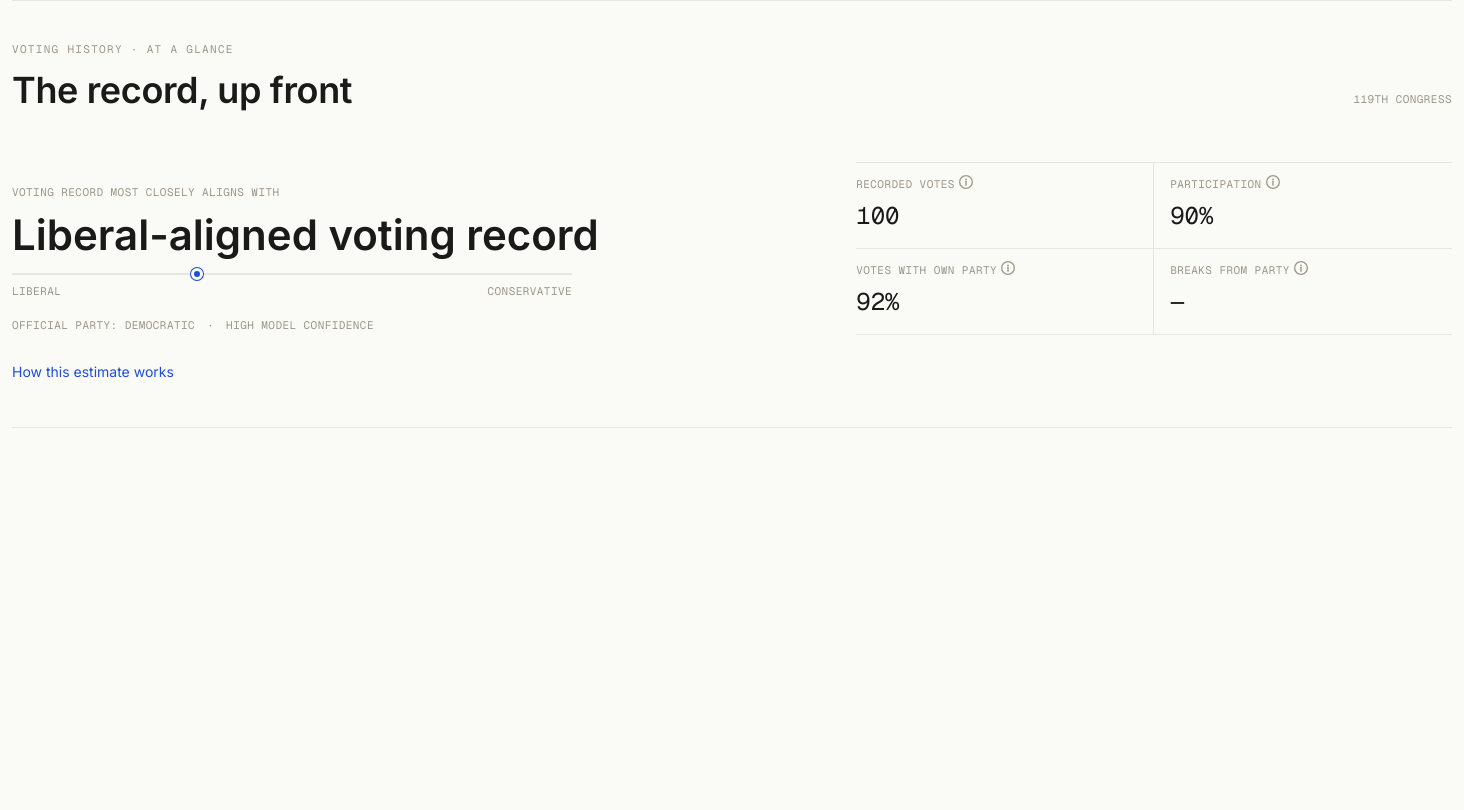
VotingRecordSummary › states that analysis is not self-identification and declines unsupported narrow labels
Click the heading "How this estimate works" at {"x": 93, "y": 372}, box [12,363,174,380]
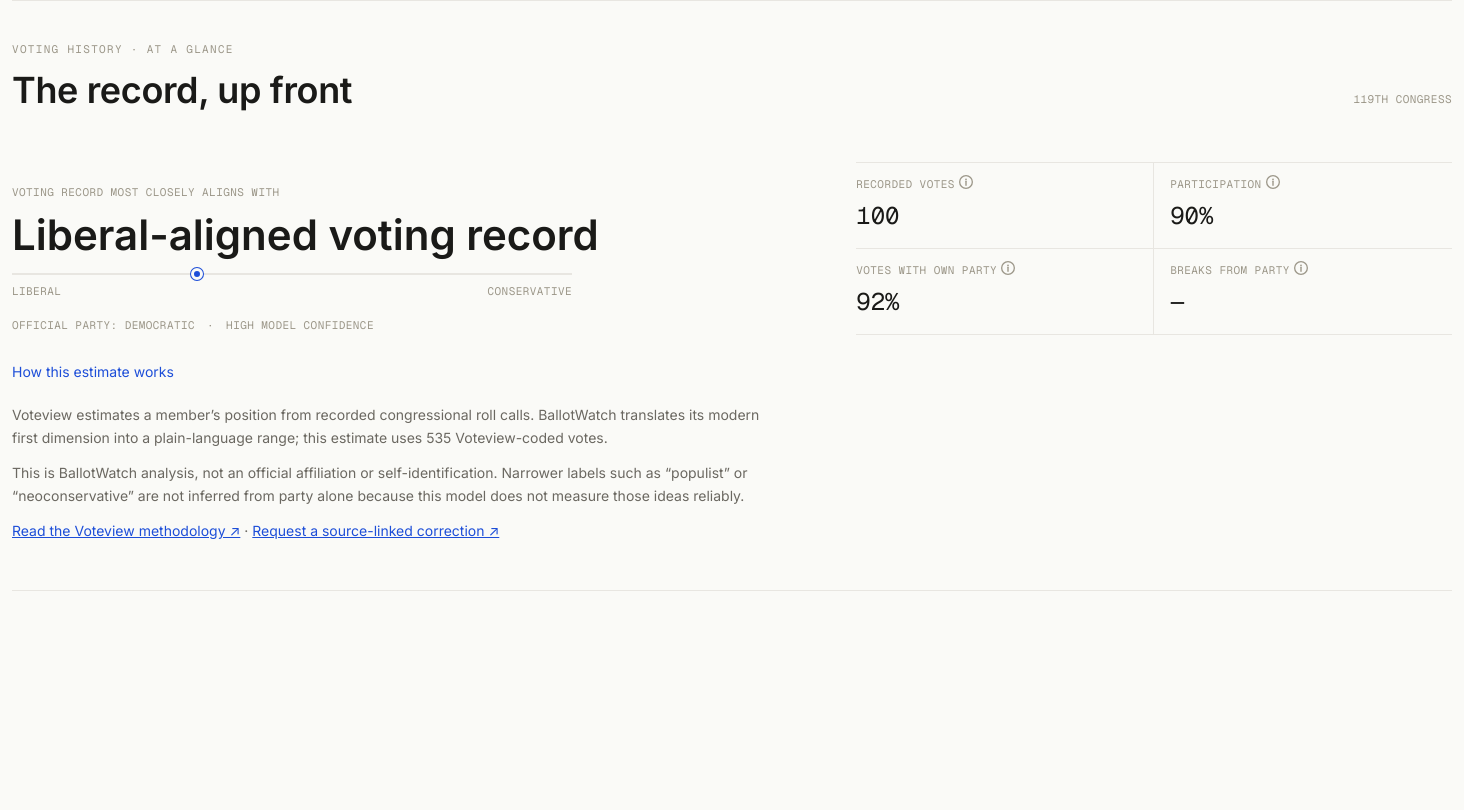
Expected: the text "“populist” or “neoconservative” are not inferred" is shown, [12,464,747,504]
